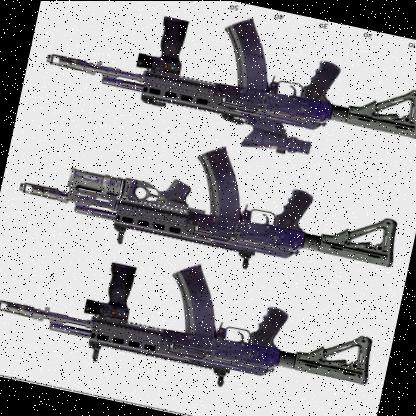rifle: (13, 100, 414, 292), (0, 223, 382, 416), (29, 0, 416, 179)
